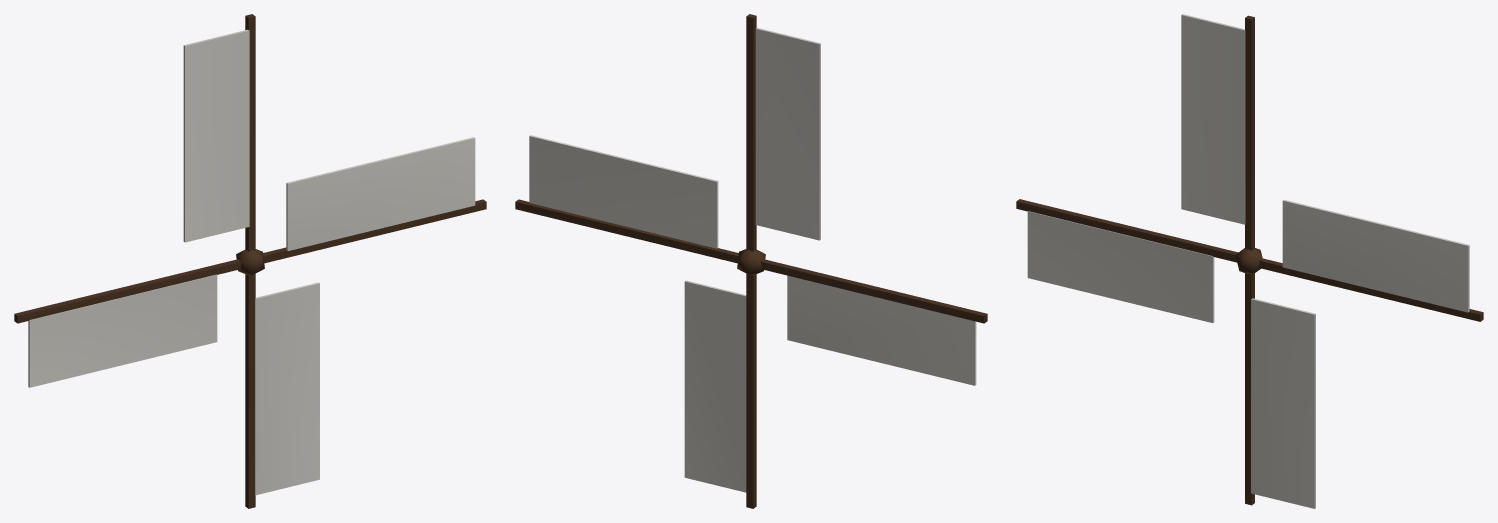
File: windmill_sails.glb
The picture shows the model from 3 angles, left to right: view 1: azimuth 30°, elevation 25°; view 2: azimuth 150°, elevation 25°; view 3: azimuth 330°, elevation 25°; orthographic projection.
Visible parts, largest first — view 1: SailsMesh; view 2: SailsMesh; view 3: SailsMesh.
Part boxes in pixels (x1=…): SailsMesh: x1=14, y1=14, x2=486, y2=508; SailsMesh: x1=515, y1=14, x2=987, y2=508; SailsMesh: x1=1016, y1=14, x2=1483, y2=508.
Size of the model in its own units: 4 by 4 by 0.2042.
